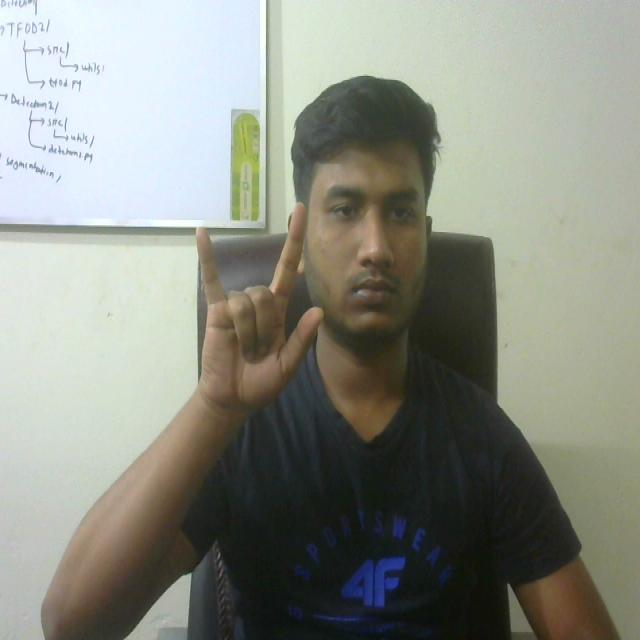I Love You: (172, 204, 329, 432)
